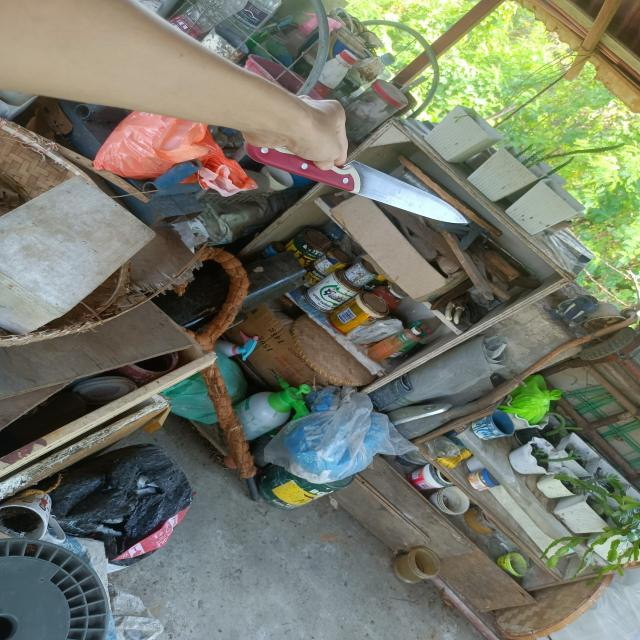knife: (244, 142, 467, 223)
